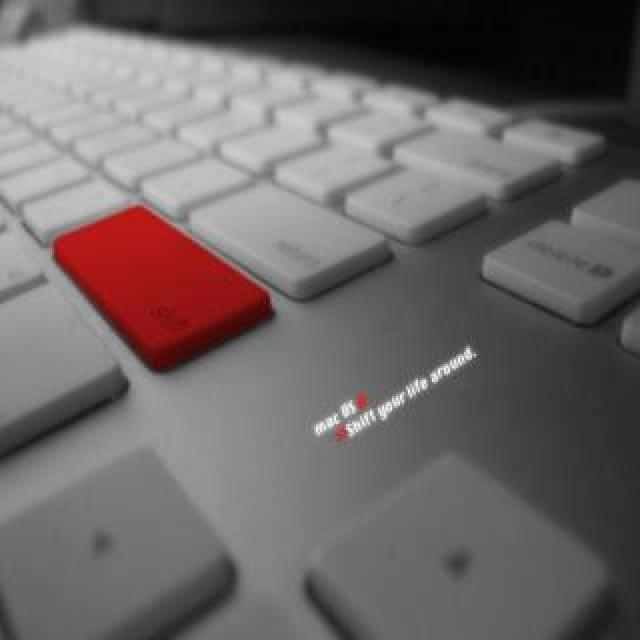laptop_computer: (10, 17, 583, 629)
